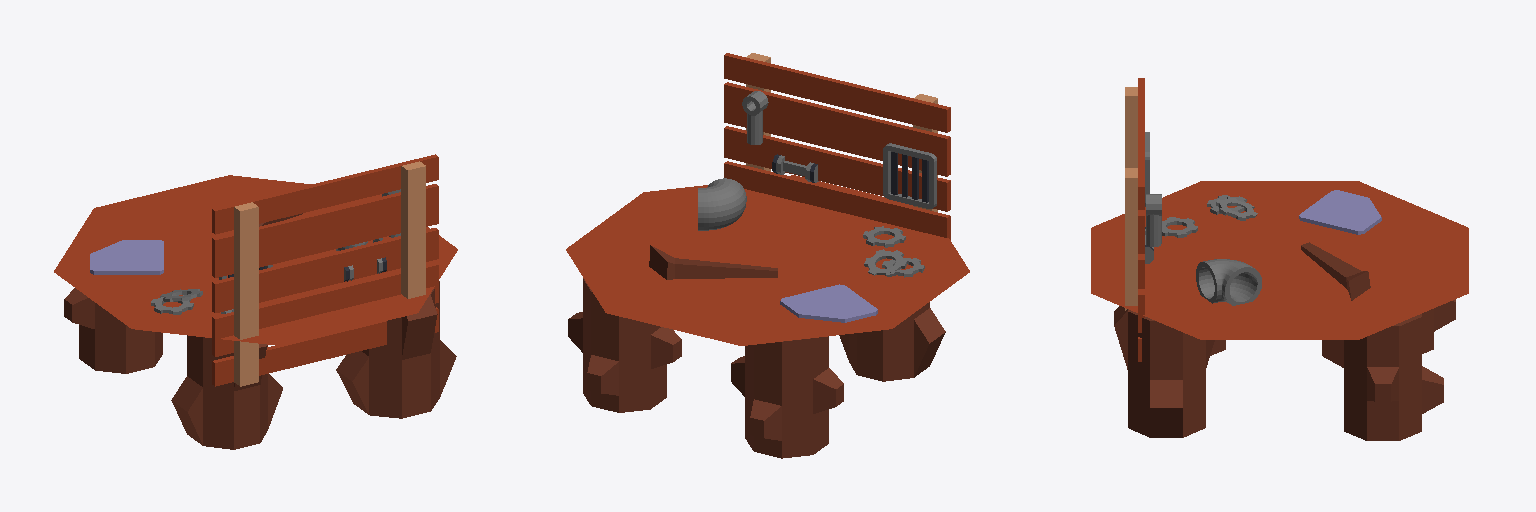
Rendered from CraftingBench.obj.
The picture shows the model from 3 angles: view 1: azimuth 30°, elevation 25°; view 2: azimuth 150°, elevation 25°; view 3: azimuth 270°, elevation 25°; orthographic projection.
Parts seen in each view (by area): view 1: mergedBlocks; view 2: mergedBlocks; view 3: mergedBlocks.
Boxes of the visible parts, x1,y1,x2,y2 form: mergedBlocks: [54, 154, 457, 449]; mergedBlocks: [566, 53, 969, 458]; mergedBlocks: [1091, 78, 1468, 440].
Size of the model in its own units: 1.46 by 1.06 by 1.46.